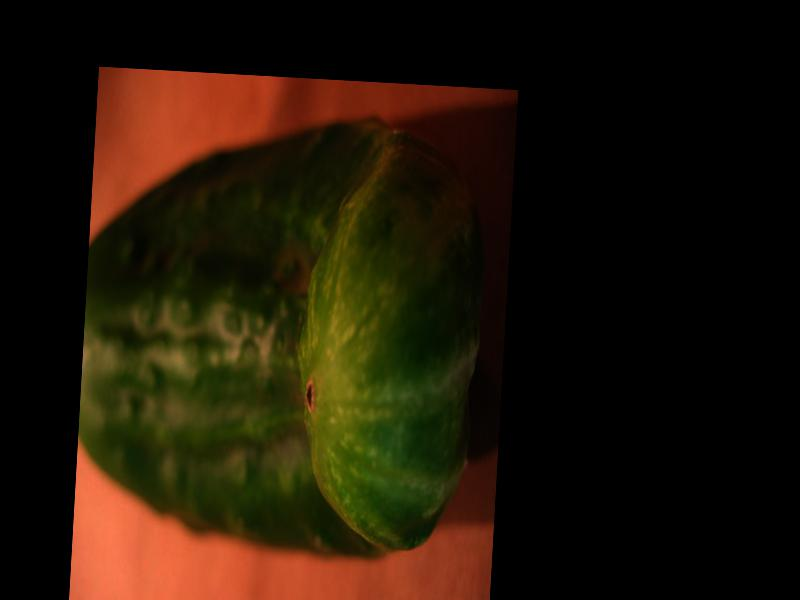Cucumber: (73, 105, 490, 566)
